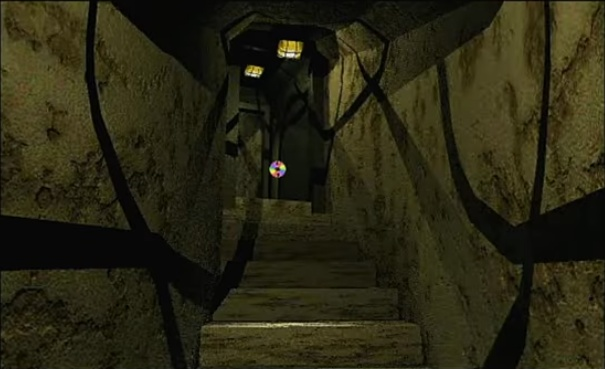Waiting: (266, 158, 290, 179)
